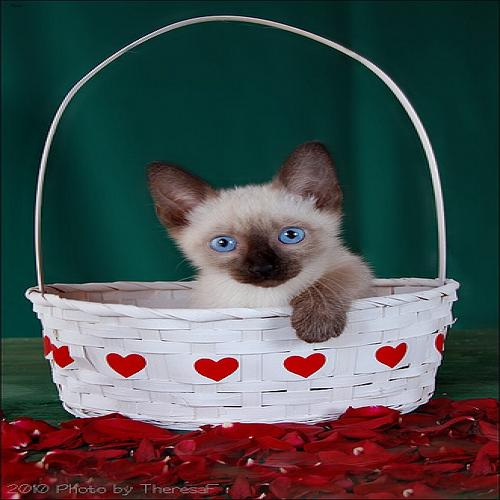siamese: (139, 140, 367, 294)
